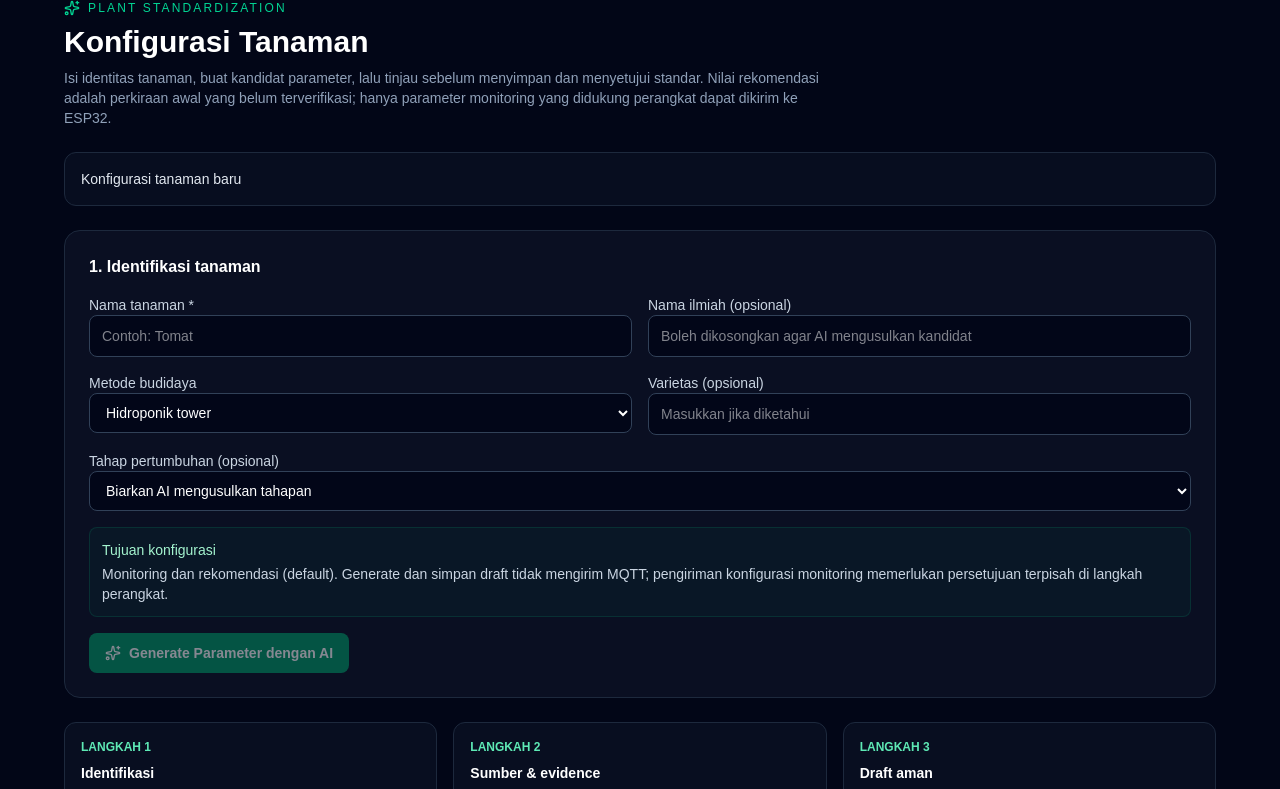
Test case: AI Plant Setup page › keeps provisional AI values and source metadata available when regenerate fails
Check: the heading "1. Identifikasi tanaman" is shown, box [89, 258, 261, 275]
Type "Tomat" into the field labelled "Nama tanaman *".
click(360, 336); type("Tomat")  # box [89, 315, 632, 357]
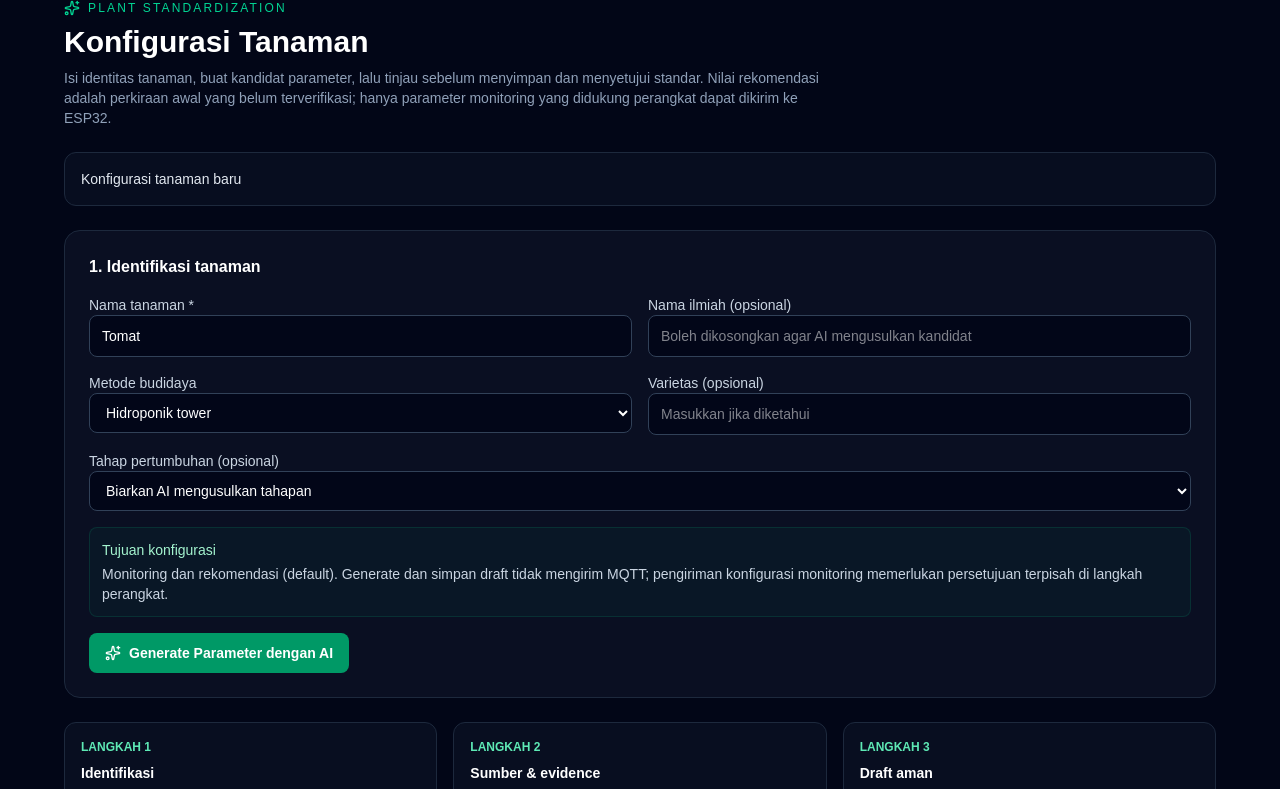
Type "Solanum lycopersicum" into the field labelled "Nama ilmiah (opsional)".
click(920, 336); type("Solanum lycopersicum")  # box [648, 315, 1191, 357]
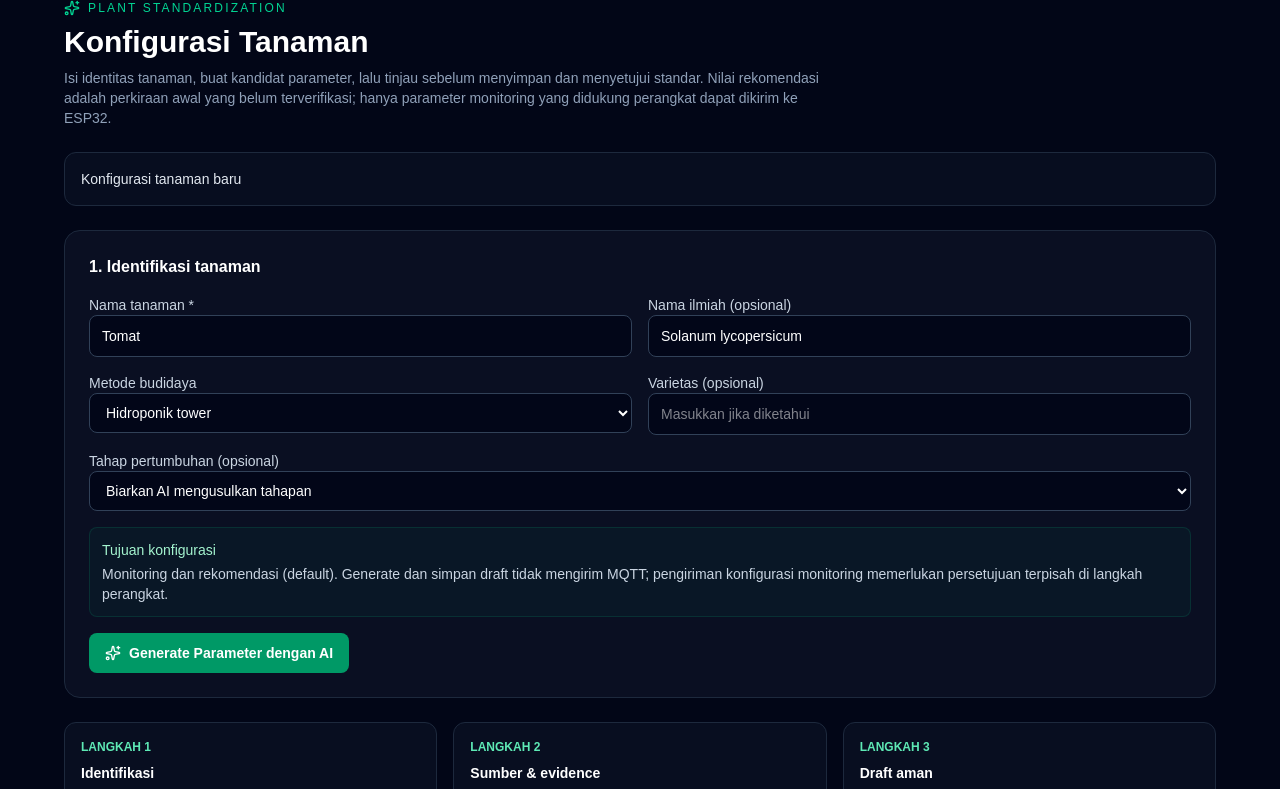
Click the button "Generate Parameter dengan AI".
click(219, 653)  # box [89, 633, 349, 673]
(page scrolled)
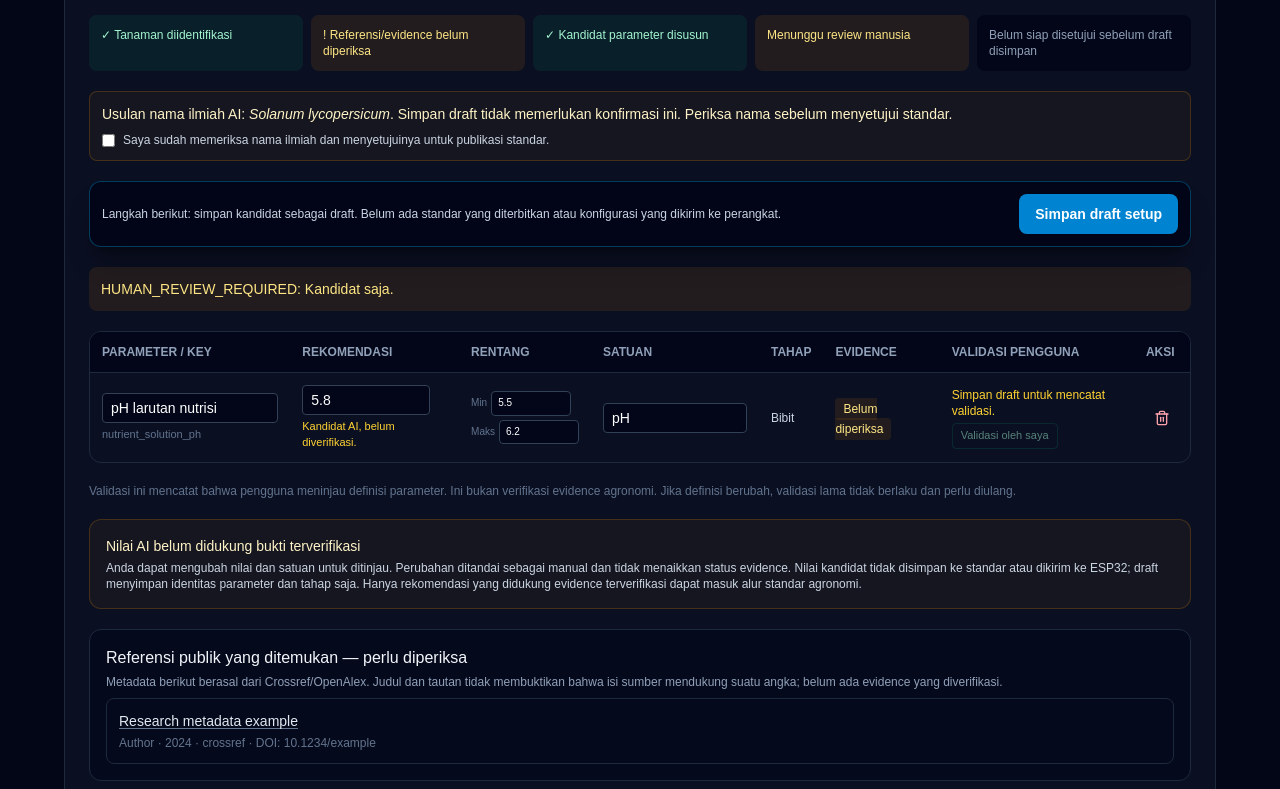
Check: the text "Belum diperiksa" is shown, box [835, 398, 891, 440]
Check: the number field showing "5.8" is shown
Check: the text "Kandidat AI, belum diverifikasi." is shown, box [302, 420, 394, 448]
Replace the text in the number field named "Rekomendasi nutrient_solution_ph" with "6.1" at (366,400), box [302, 385, 430, 415]
(page scrolled)
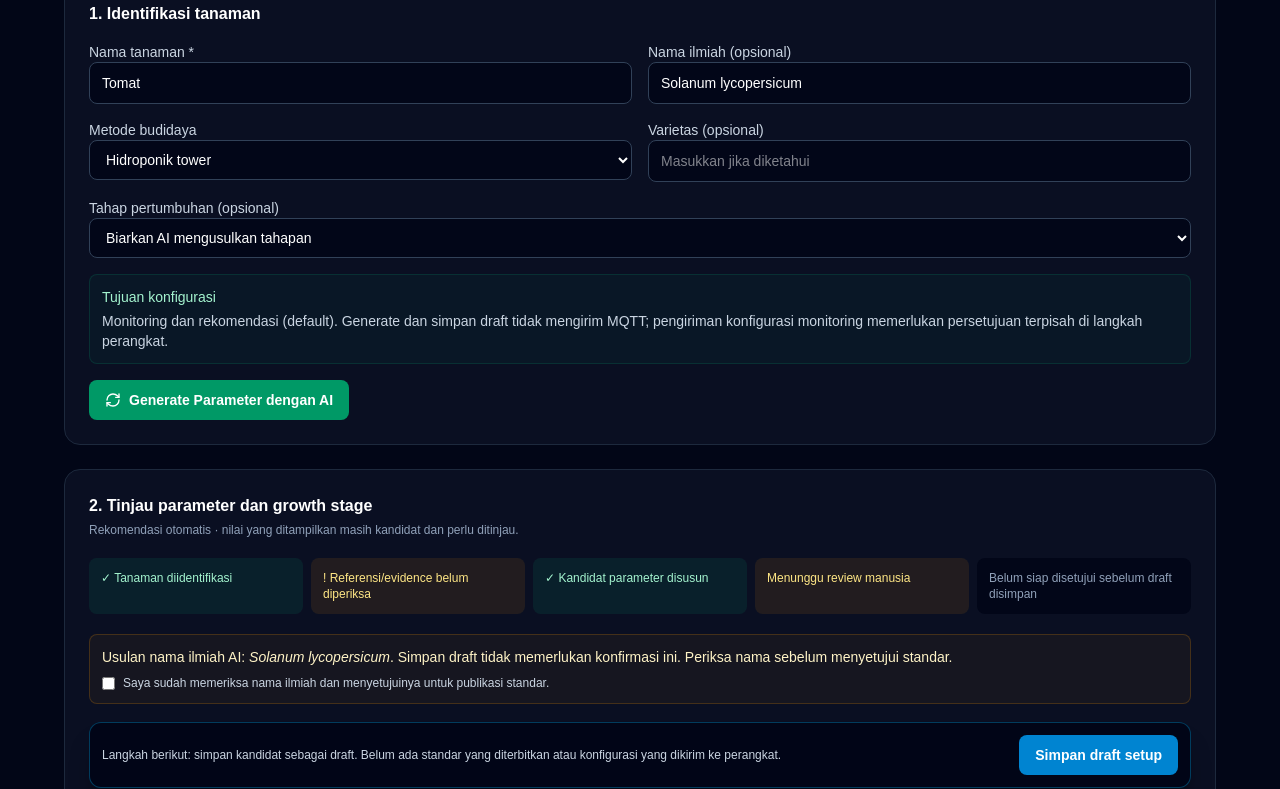
Click the button "Generate Parameter dengan AI".
click(219, 400)  # box [89, 380, 349, 420]
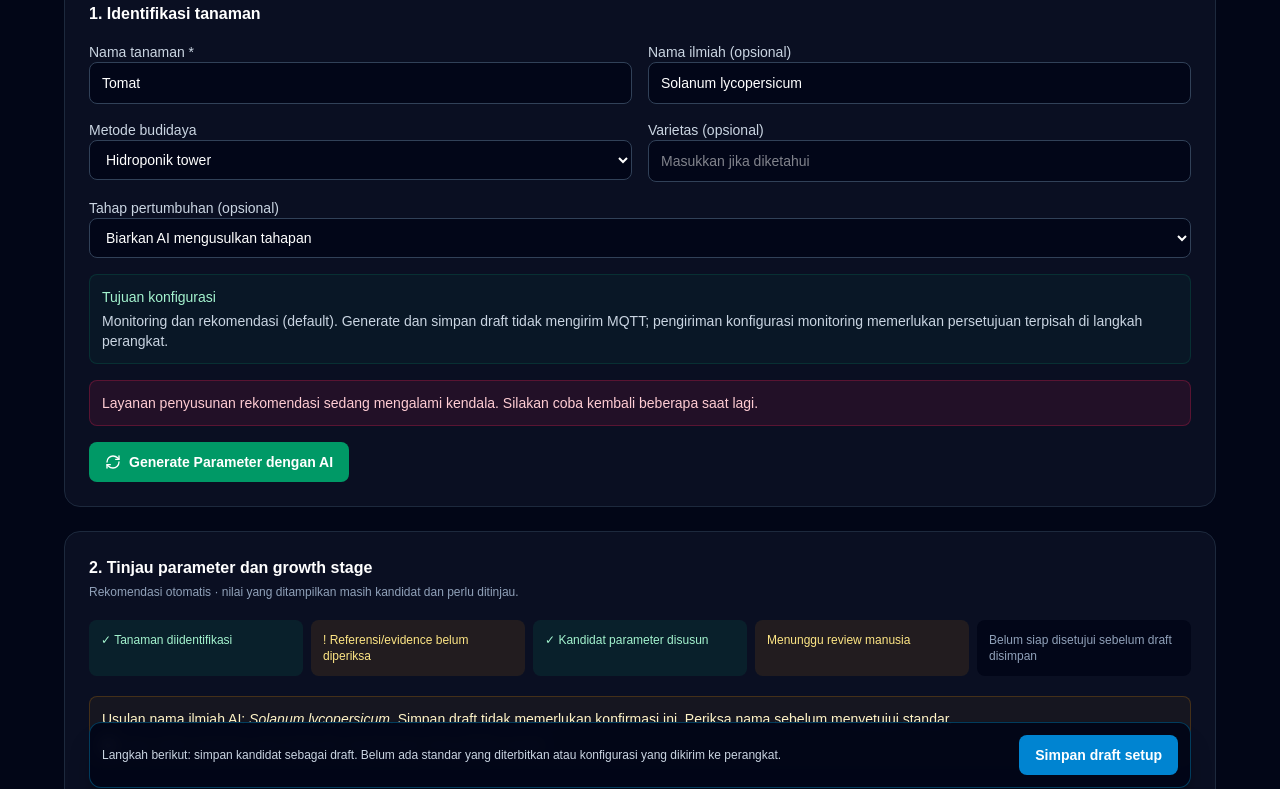
Check: the text "Rekomendasi otomatis" is shown, box [89, 585, 519, 599]
Check: the message shows "Layanan penyusunan rekomendasi sedang mengalami kendala.", box [102, 395, 758, 411]
